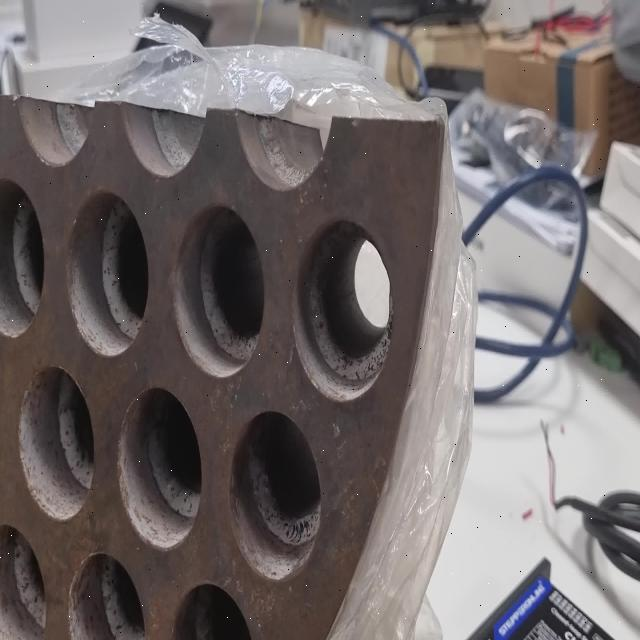Hole: (294, 216, 394, 404), (172, 203, 265, 378), (229, 410, 322, 582), (117, 384, 203, 552), (66, 190, 149, 358), (18, 365, 94, 522), (0, 175, 45, 339), (68, 550, 147, 640), (0, 523, 46, 639), (170, 586, 252, 640)
